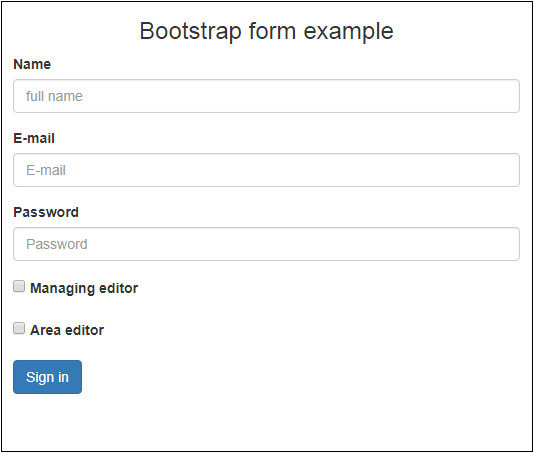_form_: (1, 13, 527, 405)
button: (12, 358, 84, 396)
checkbox: (12, 277, 27, 297), (11, 320, 25, 338)
checkbox_with_label: (9, 275, 138, 299), (8, 318, 104, 339)
field: (11, 151, 523, 189), (11, 225, 523, 263), (11, 78, 521, 115)
field_with_label: (8, 131, 526, 191), (8, 58, 523, 117), (9, 206, 525, 264)
